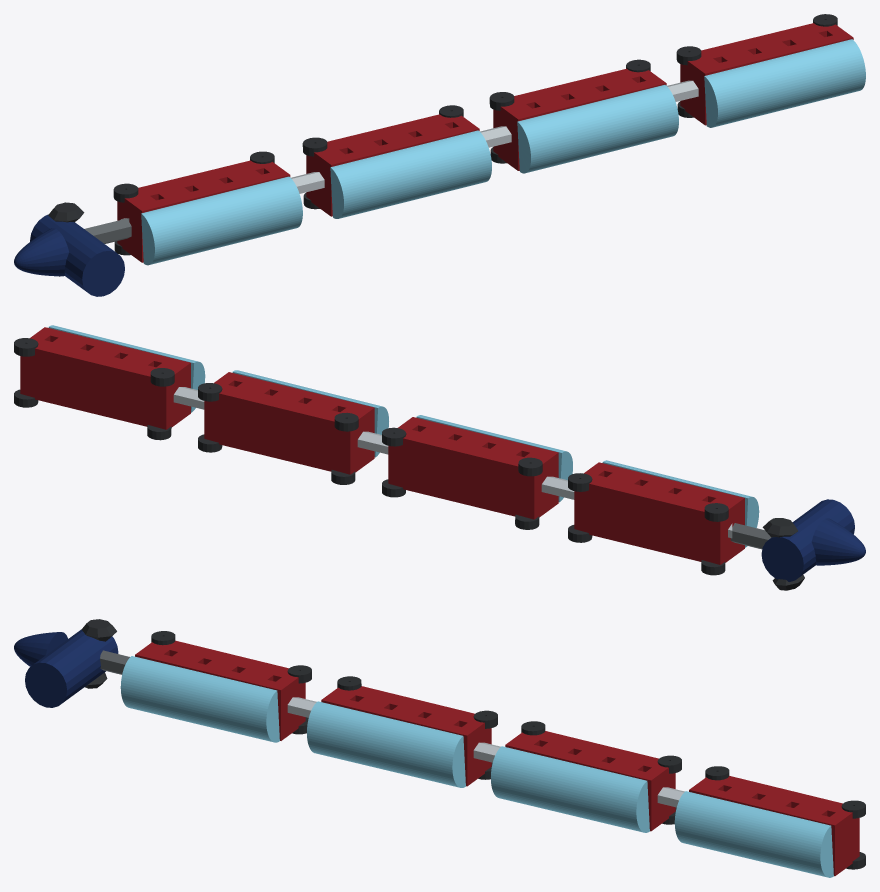
Rendered from tinker.obj.
3 views of the same model, one above another, from view 1: azimuth 30°, elevation 25°; view 2: azimuth 150°, elevation 25°; view 3: azimuth 330°, elevation 25° (orthographic).
Parts seen in each view (by area): view 1: group_0_8768998, group_0_9771553, group_0_1650274, group_0_2829873, group_0_12568524, group_0_6383466; view 2: group_0_9771553, group_0_2829873, group_0_1650274, group_0_8768998, group_0_12568524, group_0_6383466; view 3: group_0_8768998, group_0_9771553, group_0_1650274, group_0_2829873, group_0_12568524, group_0_6383466.
Boxes of the visible parts, <box> form: group_0_8768998: <box>141,39,865,265</box>; group_0_9771553: <box>117,23,853,262</box>; group_0_1650274: <box>14,214,124,296</box>; group_0_2829873: <box>48,14,837,276</box>; group_0_12568524: <box>120,80,698,221</box>; group_0_6383466: <box>84,218,131,243</box>; group_0_9771553: <box>20,327,744,564</box>; group_0_2829873: <box>14,338,804,590</box>; group_0_1650274: <box>761,499,865,581</box>; group_0_8768998: <box>48,325,759,547</box>; group_0_12568524: <box>173,387,732,538</box>; group_0_6383466: <box>730,523,771,549</box>; group_0_8768998: <box>120,656,833,877</box>; group_0_9771553: <box>135,640,859,876</box>; group_0_1650274: <box>14,629,118,707</box>; group_0_2829873: <box>81,619,865,869</box>; group_0_12568524: <box>287,697,684,807</box>; group_0_6383466: <box>100,650,129,674</box>.
Size of the model in its own units: 392 by 29 by 44.98.
